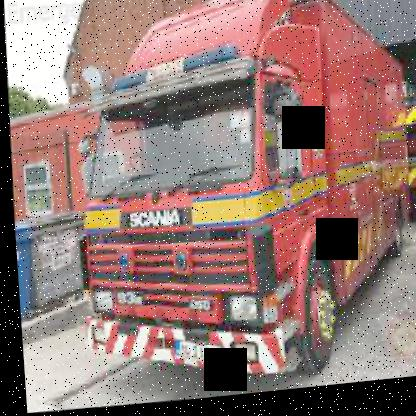emergency: (56, 0, 415, 411)
